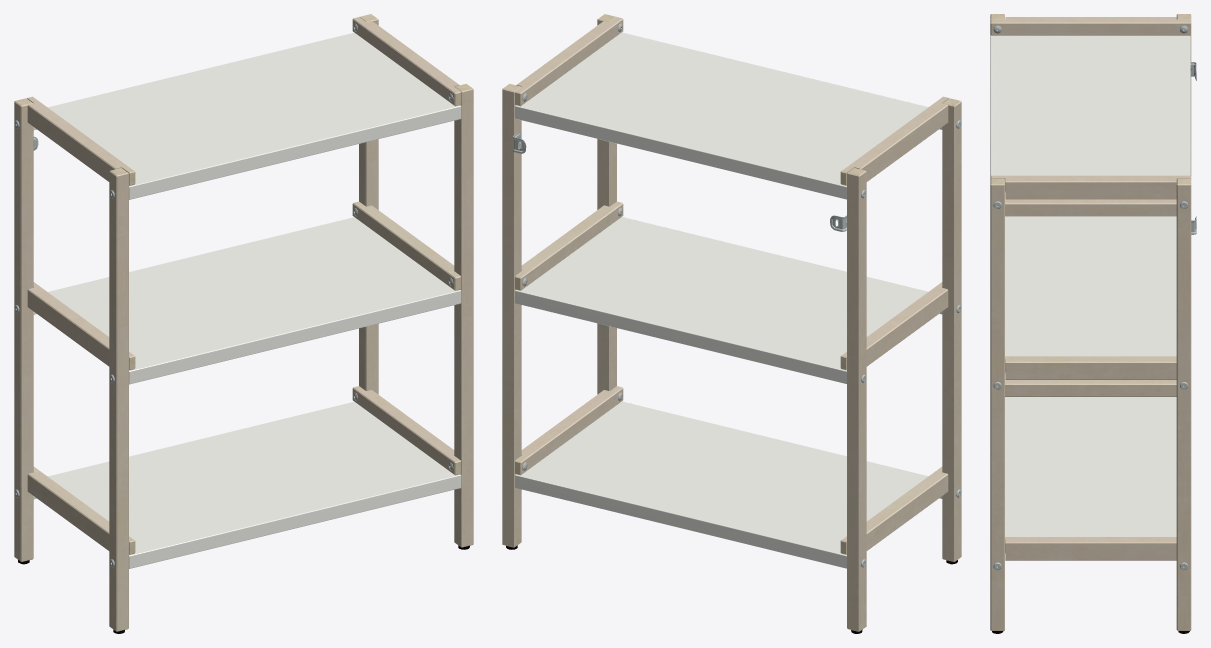
The model's file is EKENABBEN_10487816.glb.
3 views of the same model, side by side, from view 1: azimuth 30°, elevation 25°; view 2: azimuth 150°, elevation 25°; view 3: azimuth 270°, elevation 25° (orthographic). The views are drawn at different scales.
Visible parts, largest first — view 1: model; view 2: model; view 3: model.
Part boxes in pixels (x1,y1,x2,y2): model: (14, 14, 473, 633); model: (502, 14, 961, 633); model: (990, 14, 1196, 633).
Size of the model in its own units: 0.699 by 0.8532 by 0.354.
Materials: 1 (1 with a texture image).
